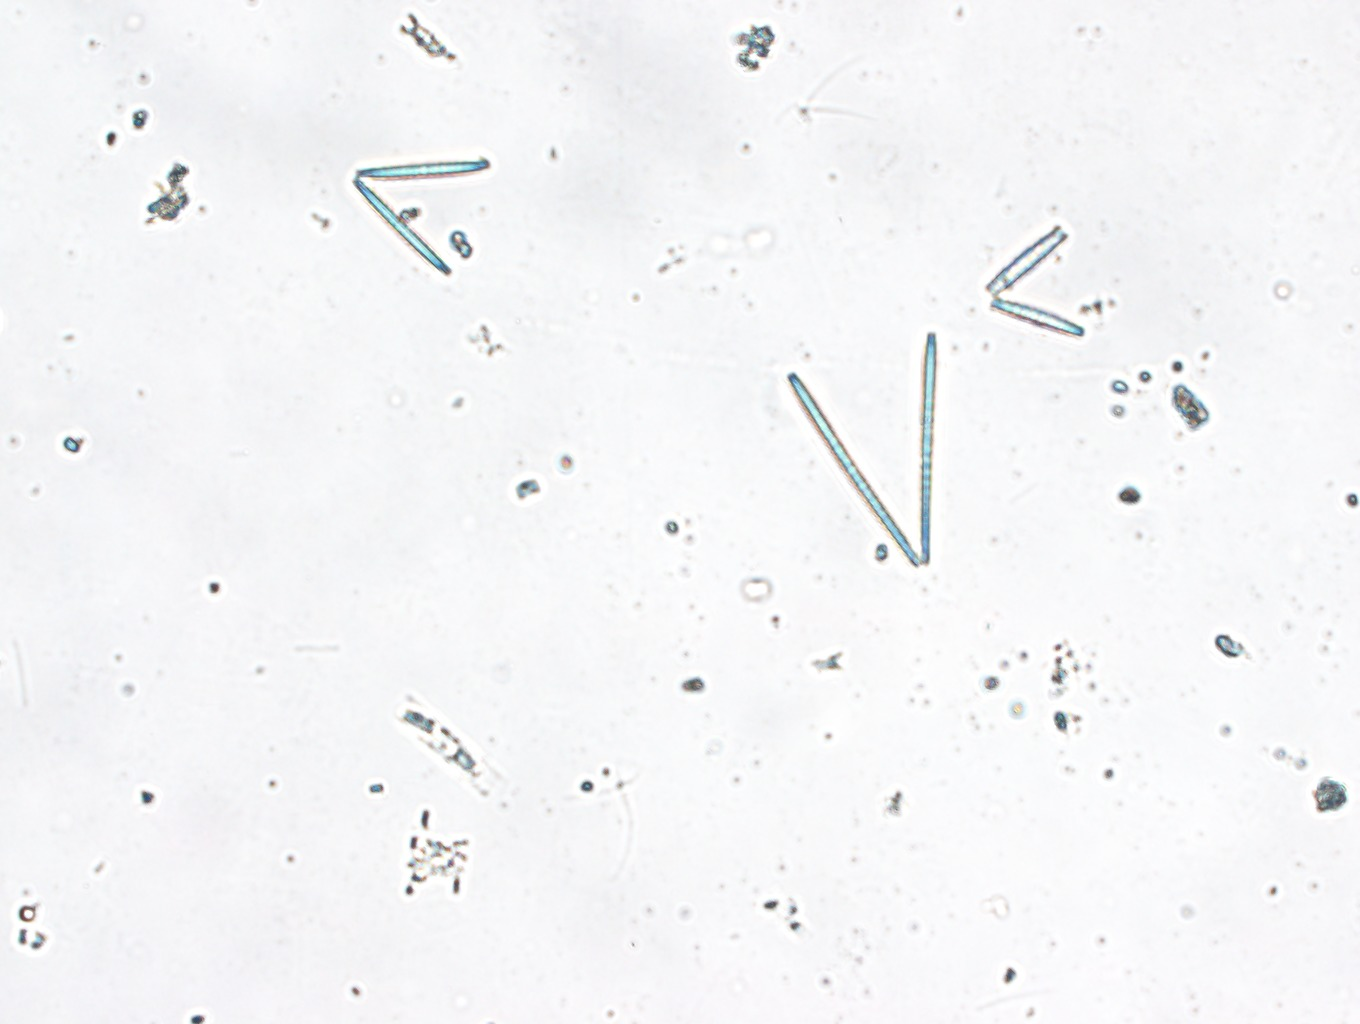thalassionema frauenfeldii: (784, 323, 963, 577), (346, 151, 490, 281), (982, 228, 1087, 350)
